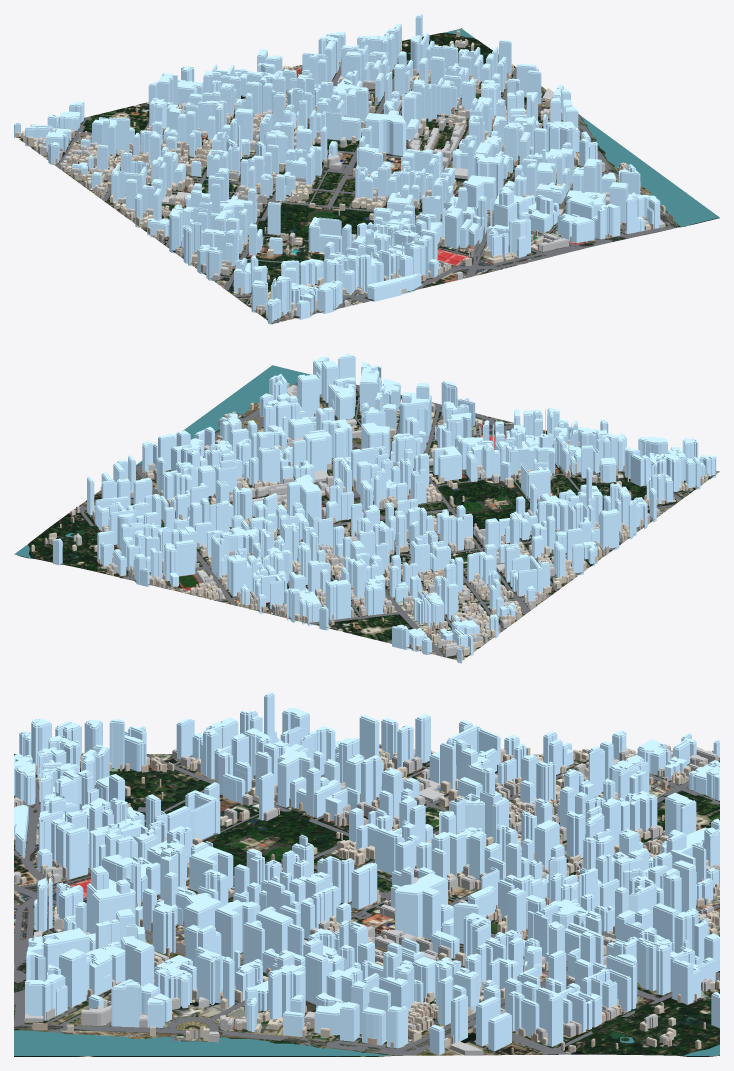
3 renders of one model, top to bottom at view 1: azimuth 30°, elevation 25°; view 2: azimuth 150°, elevation 25°; view 3: azimuth 270°, elevation 25°, orthographic. The views are drawn at different scales.
Parts seen in each view (by area): view 1: BLDG_MODERN_TOWER, TERRAIN, BLDG_SHOPHOUSE, BLDG_APARTMENT_CONCRETE, ROAD_METRO, WATER, BLDG_TUBE_HOUSE; view 2: BLDG_MODERN_TOWER, TERRAIN, BLDG_SHOPHOUSE, BLDG_APARTMENT_CONCRETE, ROAD_METRO, WATER, BLDG_TUBE_HOUSE; view 3: BLDG_MODERN_TOWER, TERRAIN, BLDG_APARTMENT_CONCRETE, BLDG_SHOPHOUSE, ROAD_METRO, WATER, BLDG_TUBE_HOUSE.
Boxes of the visible parts, <box> form: BLDG_MODERN_TOWER: <box>14,14,660,324</box>; TERRAIN: <box>15,28,719,323</box>; BLDG_SHOPHOUSE: <box>15,30,665,316</box>; BLDG_APARTMENT_CONCRETE: <box>30,41,665,317</box>; ROAD_METRO: <box>55,59,678,323</box>; WATER: <box>445,29,719,226</box>; BLDG_TUBE_HOUSE: <box>55,36,673,319</box>; BLDG_MODERN_TOWER: <box>53,353,716,663</box>; TERRAIN: <box>14,382,719,660</box>; BLDG_SHOPHOUSE: <box>31,383,708,660</box>; BLDG_APARTMENT_CONCRETE: <box>48,385,659,656</box>; ROAD_METRO: <box>69,383,718,656</box>; WATER: <box>16,365,403,563</box>; BLDG_TUBE_HOUSE: <box>44,400,708,648</box>; BLDG_MODERN_TOWER: <box>14,692,719,1055</box>; TERRAIN: <box>14,754,719,1056</box>; BLDG_APARTMENT_CONCRETE: <box>14,744,719,1055</box>; BLDG_SHOPHOUSE: <box>14,744,719,1052</box>; ROAD_METRO: <box>14,754,719,1055</box>; WATER: <box>14,1030,719,1055</box>; BLDG_TUBE_HOUSE: <box>15,753,719,1053</box>.
Bounding box in the file's own units: 2004 × 280 × 2000.
Materials: 8 (1 with a texture image).
